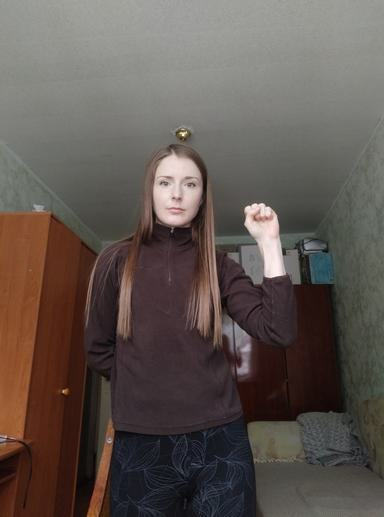fist: (241, 201, 282, 244)
